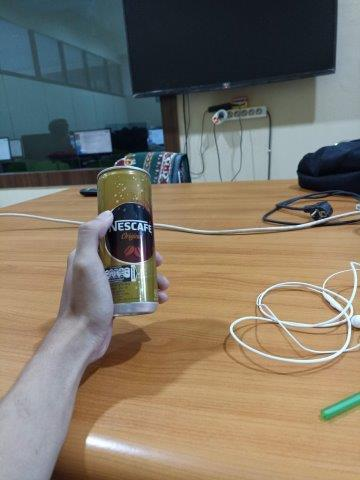kaleng: (96, 165, 159, 318)
